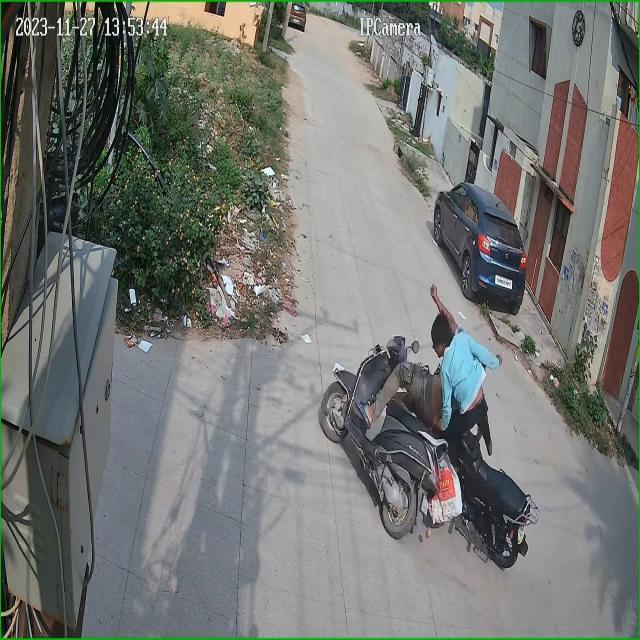accident: (325, 309, 539, 576)
